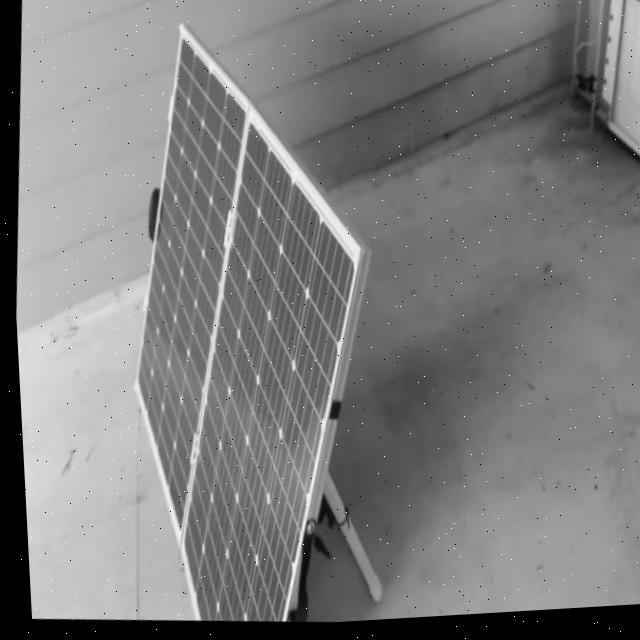Normal Solar Panel: (98, 14, 394, 636)
